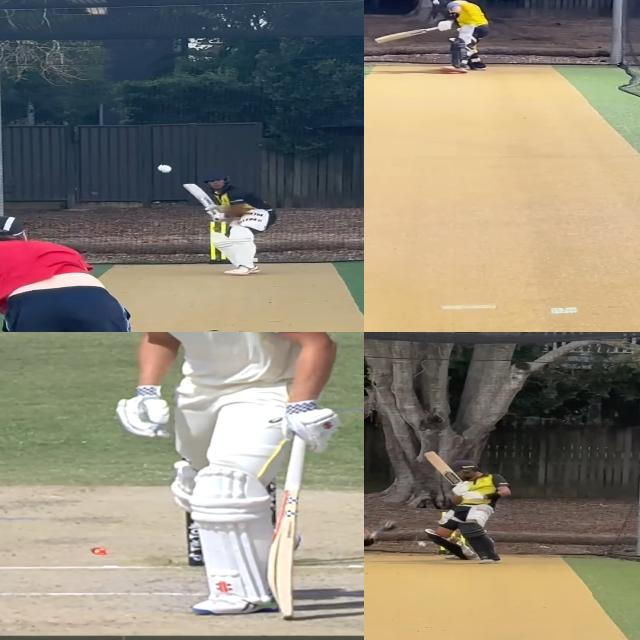Cricket ball: (156, 162, 174, 173), (417, 541, 428, 547), (432, 0, 440, 4)
